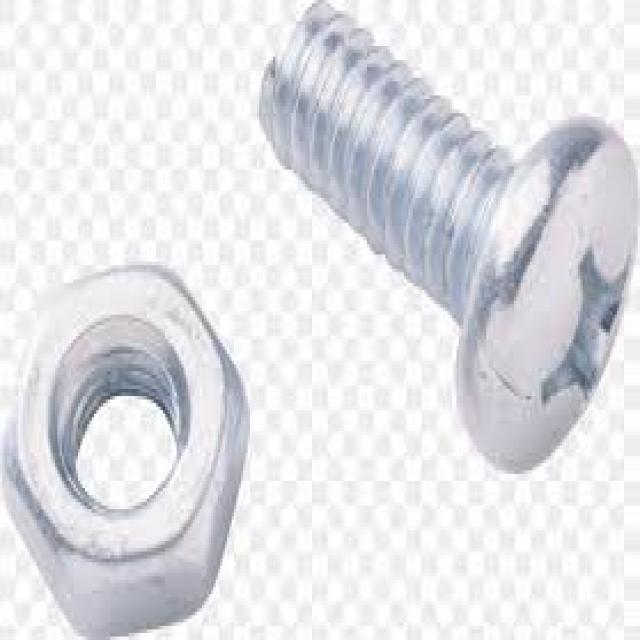bolt: (259, 0, 640, 465)
nut: (4, 267, 250, 627)
